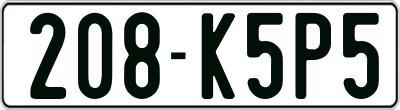0: (77, 12, 117, 100)
2: (29, 10, 67, 98)
5: (247, 10, 287, 97), (341, 10, 379, 100)
8: (122, 10, 162, 98)
K: (200, 12, 239, 99)
P: (293, 13, 329, 101)
